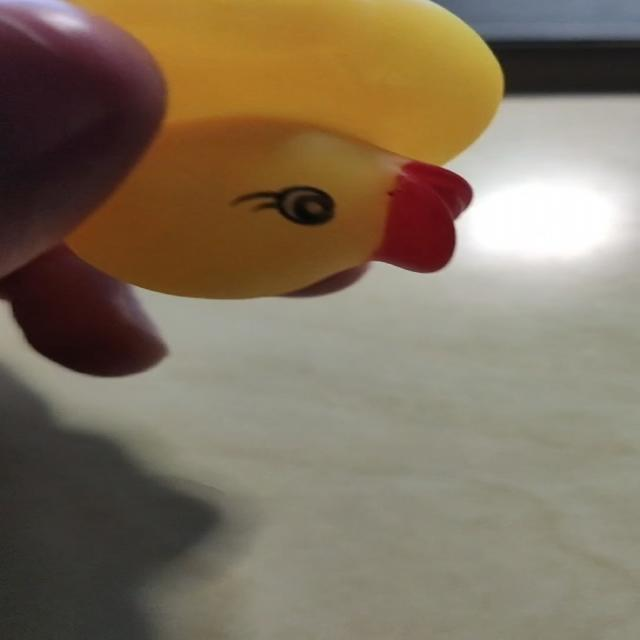rubber-duck: (0, 0, 501, 296)
